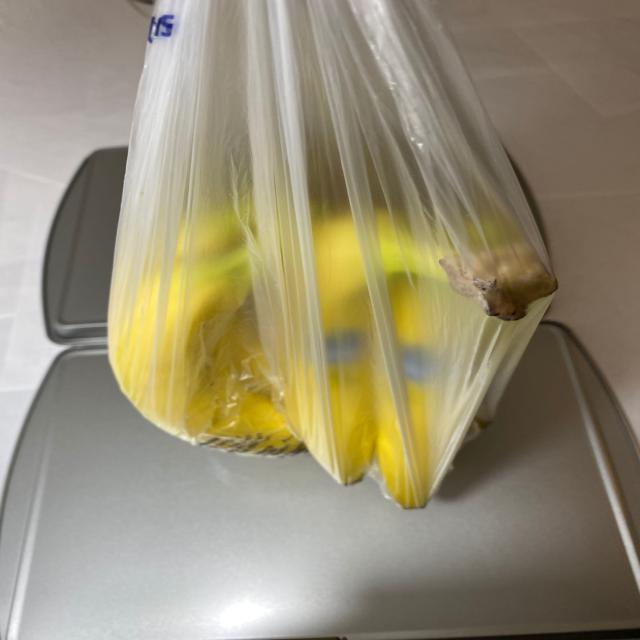banana: (100, 149, 558, 515)
